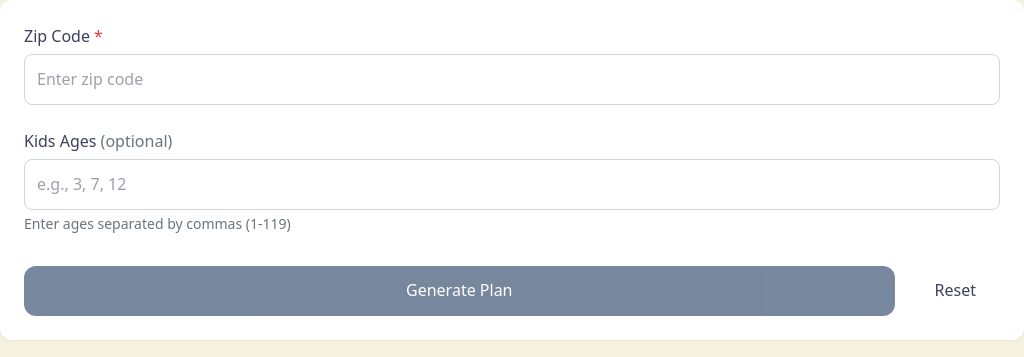
it: InputForm › Reset button clears all field values
In the field labelled "Zip Code *": [512, 79] box [24, 54, 1000, 105], type "94105"
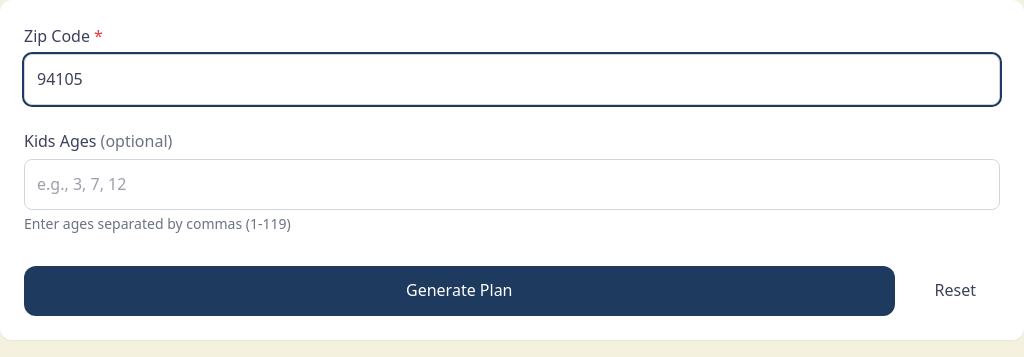
In the field labelled "Kids Ages (optional)": [512, 185] box [24, 159, 1000, 210], type "5, 8"
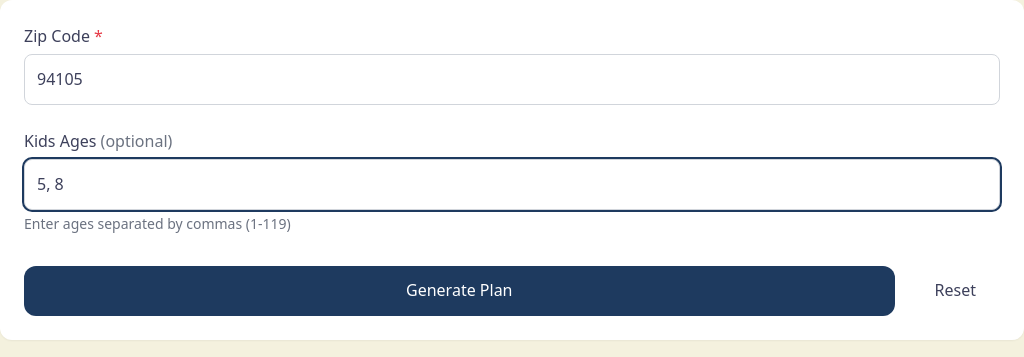
Click the button "Reset": [955, 291] box [910, 266, 1000, 316]
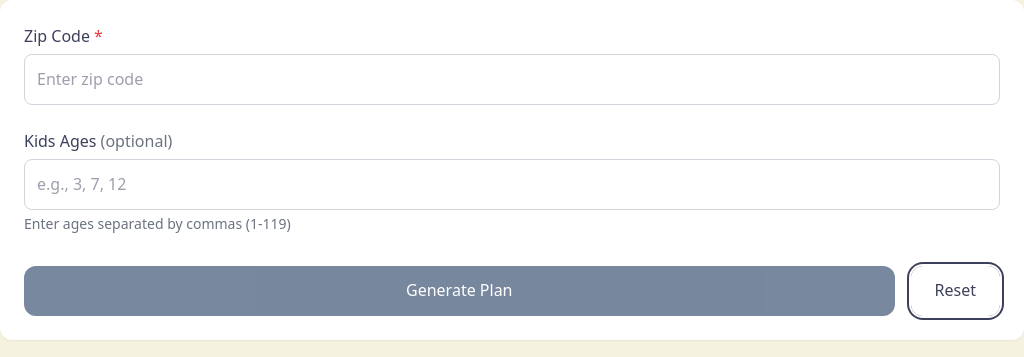
Expected: the field labelled "Zip Code *" is empty, [24, 54, 1000, 105]
Expected: the field labelled "Kids Ages (optional)" is empty, [24, 159, 1000, 210]
